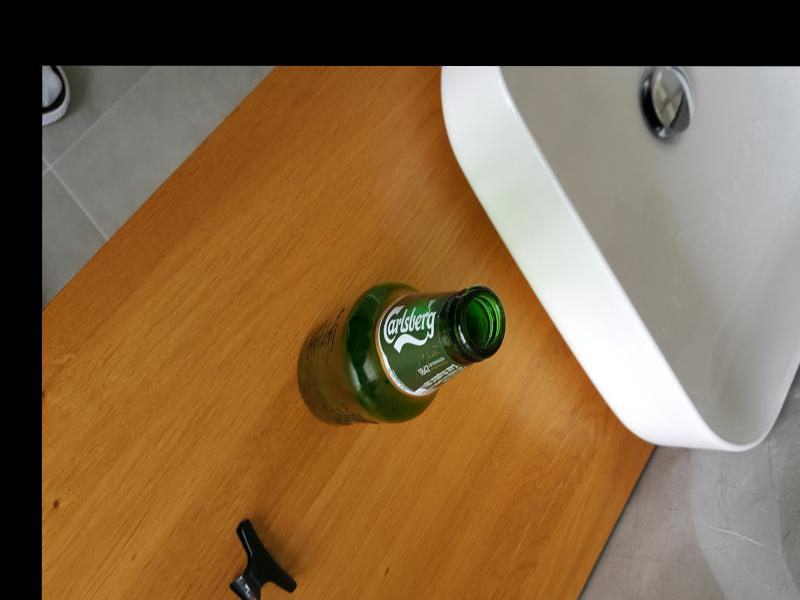Beer: (295, 284, 503, 423)
